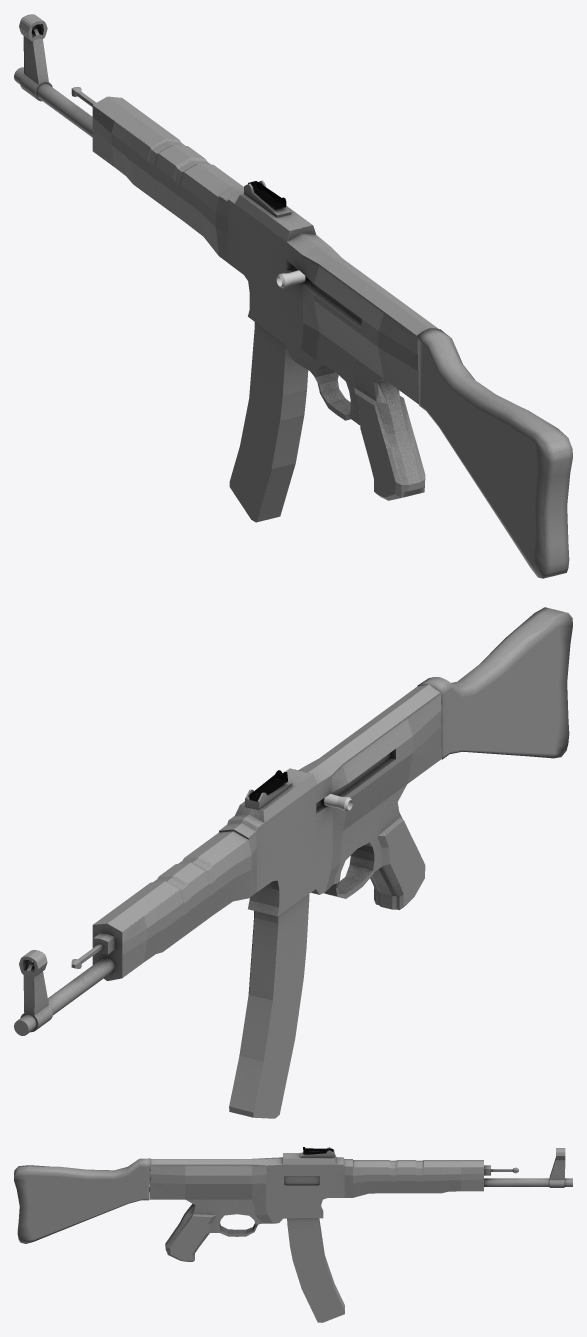
The model's file is stg.obj.
3 renders of one model, top to bottom at view 1: azimuth 30°, elevation 25°; view 2: azimuth 150°, elevation 25°; view 3: azimuth 270°, elevation 25°, orthographic. The views are drawn at different scales.
Visible parts, largest first — view 1: Cylinder.001, Plane, Plane.002; view 2: Cylinder.001, Plane, Plane.002; view 3: Cylinder.001, Plane, Plane.002.
Part boxes in pixels (x1,y1,x2,y2): Cylinder.001: (14, 14, 438, 500); Plane: (417, 328, 572, 578); Plane.002: (229, 322, 308, 522); Cylinder.001: (14, 684, 441, 1035); Plane: (417, 607, 572, 759); Plane.002: (229, 894, 309, 1118); Cylinder.001: (149, 1147, 572, 1261); Plane: (14, 1158, 150, 1243); Plane.002: (287, 1218, 344, 1322).
Size of the model in its own units: 0.5532 by 3.28 by 9.7.
4 materials, 3 textured.
